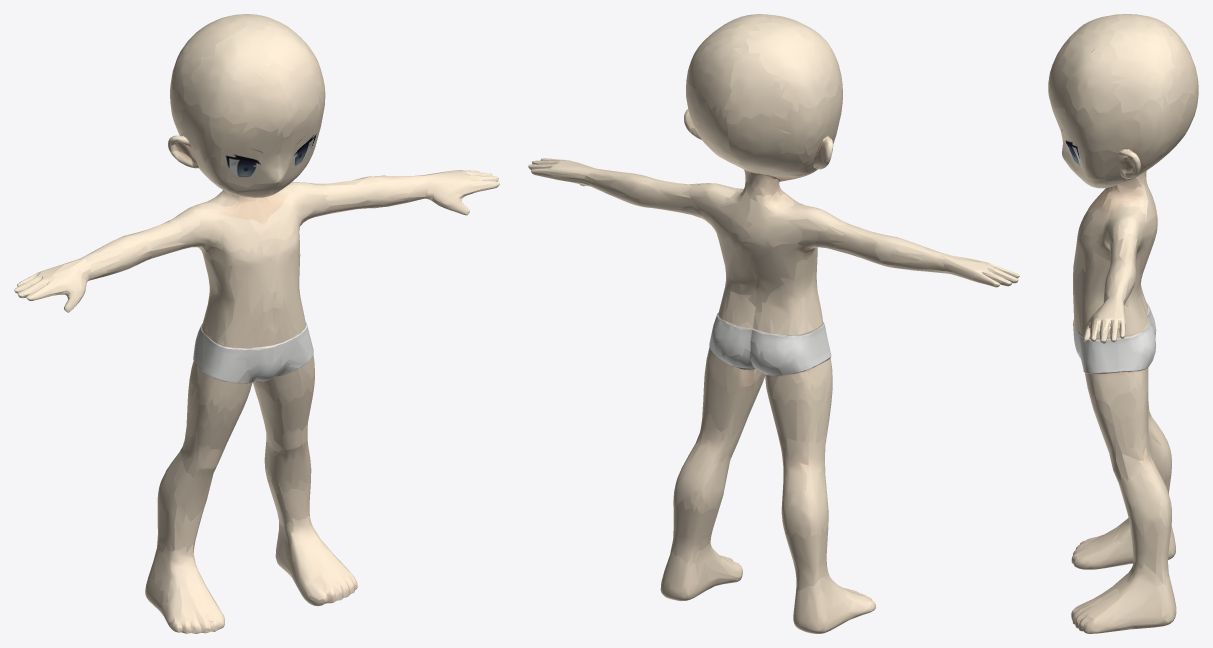
The model's file is chibi_base_meshy.glb.
3 renders of one model, left to right at view 1: azimuth 30°, elevation 25°; view 2: azimuth 150°, elevation 25°; view 3: azimuth 270°, elevation 25°, orthographic. The views are drawn at different scales.
Bounding box in the file's own units: 1.65 × 1.9 × 0.4518.
Materials: 1 (1 with a texture image).
